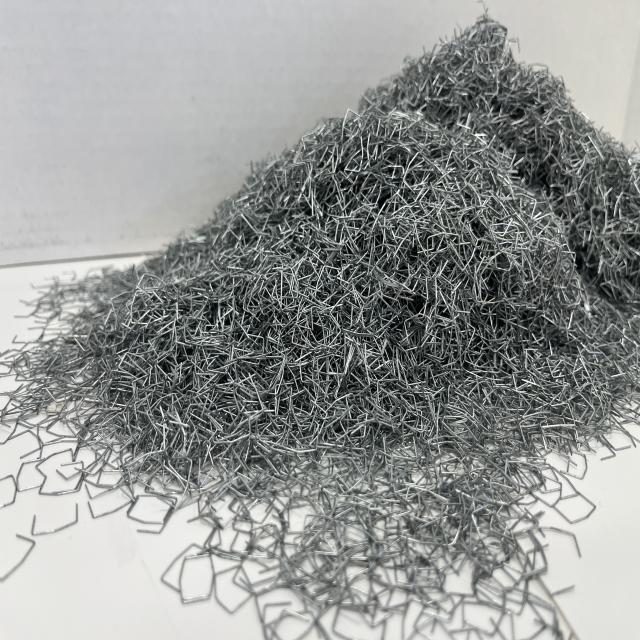staples: (19, 7, 637, 531)
